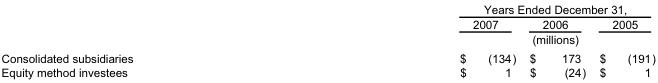table: (0, 1, 654, 79)
table column: (0, 1, 295, 79), (295, 1, 522, 79), (522, 1, 591, 79), (591, 1, 654, 79)
table column header: (0, 1, 654, 48)
table row: (0, 31, 654, 48), (0, 48, 654, 65), (0, 1, 654, 16), (0, 16, 654, 31), (0, 65, 654, 79)
table spanning cell: (295, 31, 654, 48), (295, 1, 654, 16)
